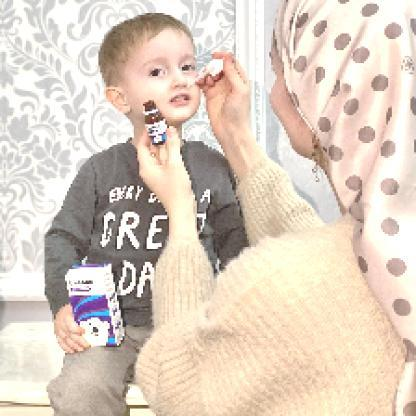child: (44, 12, 252, 415)
